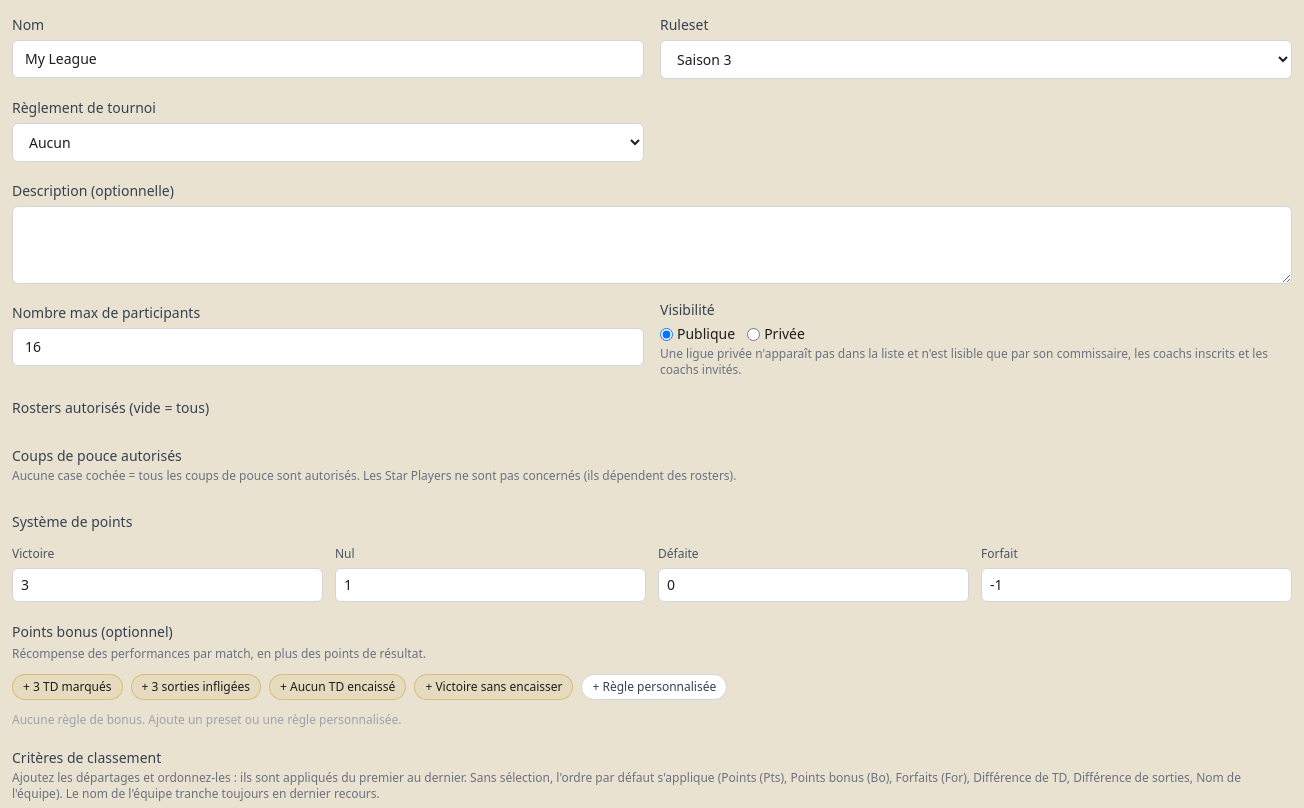
LeagueForm — editeur de points bonus (E1) › ajoute une regle via un preset (3 TD marques)
The image size is (1304, 808).
expect the element with test id "league-form-bonus" is shown: met, box [12,622,727,728]
Click the button with test id "bonus-preset-3tds".
click(67, 687)  # box [12,674,122,700]
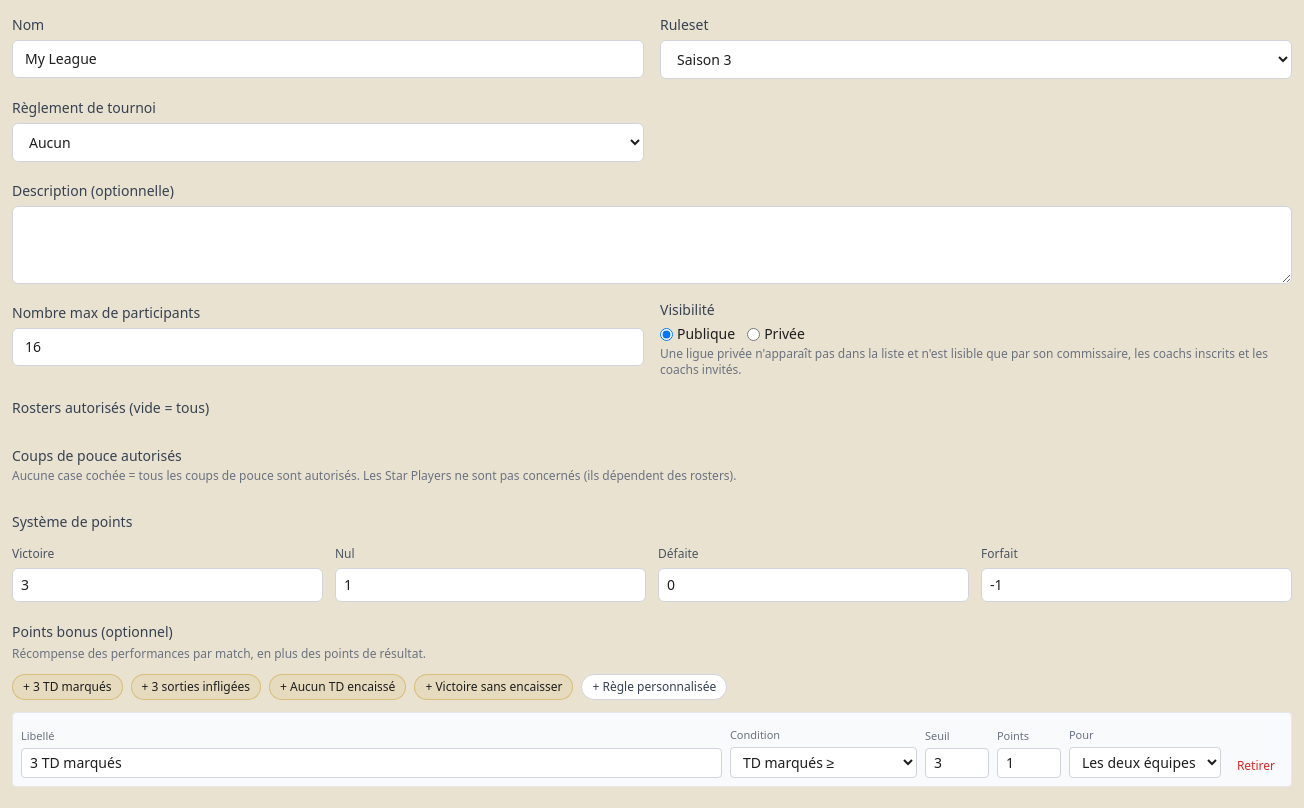
expect the text with test id "bonus-empty" is gone: met
expect the dropdown with test id "bonus-rule-0-condition" shows "TD marqués ≥": met, box [730,747,917,778]
expect the number field with test id "bonus-rule-0-value" holds "3": met, box [925,748,989,778]
